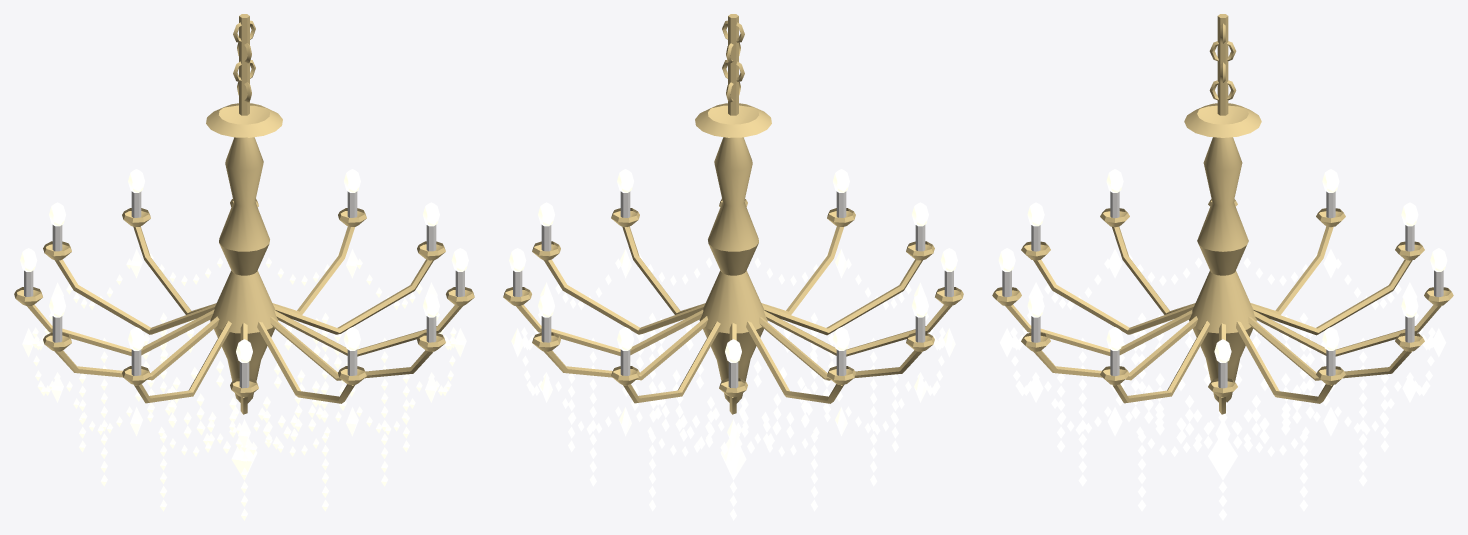
Rendered from chandelier-small.glb.
The picture shows the model from 3 angles, left to right: view 1: azimuth 30°, elevation 25°; view 2: azimuth 150°, elevation 25°; view 3: azimuth 270°, elevation 25°; orthographic projection.
Visible parts, largest first — view 1: frame, crystals, lights; view 2: frame, crystals, lights; view 3: frame, crystals, lights.
Boxes of the visible parts, <box> form: frame: <box>14,14,474,414</box>; crystals: <box>22,249,466,520</box>; lights: <box>20,169,468,362</box>; frame: <box>503,14,963,414</box>; crystals: <box>511,249,955,520</box>; lights: <box>509,169,957,362</box>; frame: <box>992,14,1453,414</box>; crystals: <box>999,249,1446,520</box>; lights: <box>998,169,1447,362</box>.
Bounding box in the file's own units: 0.963 × 1.07 × 0.963.
